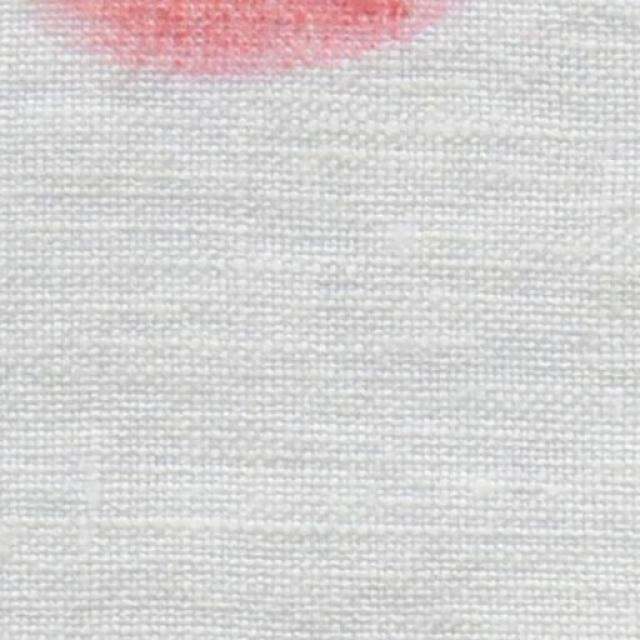Stain: (35, 1, 465, 76)
